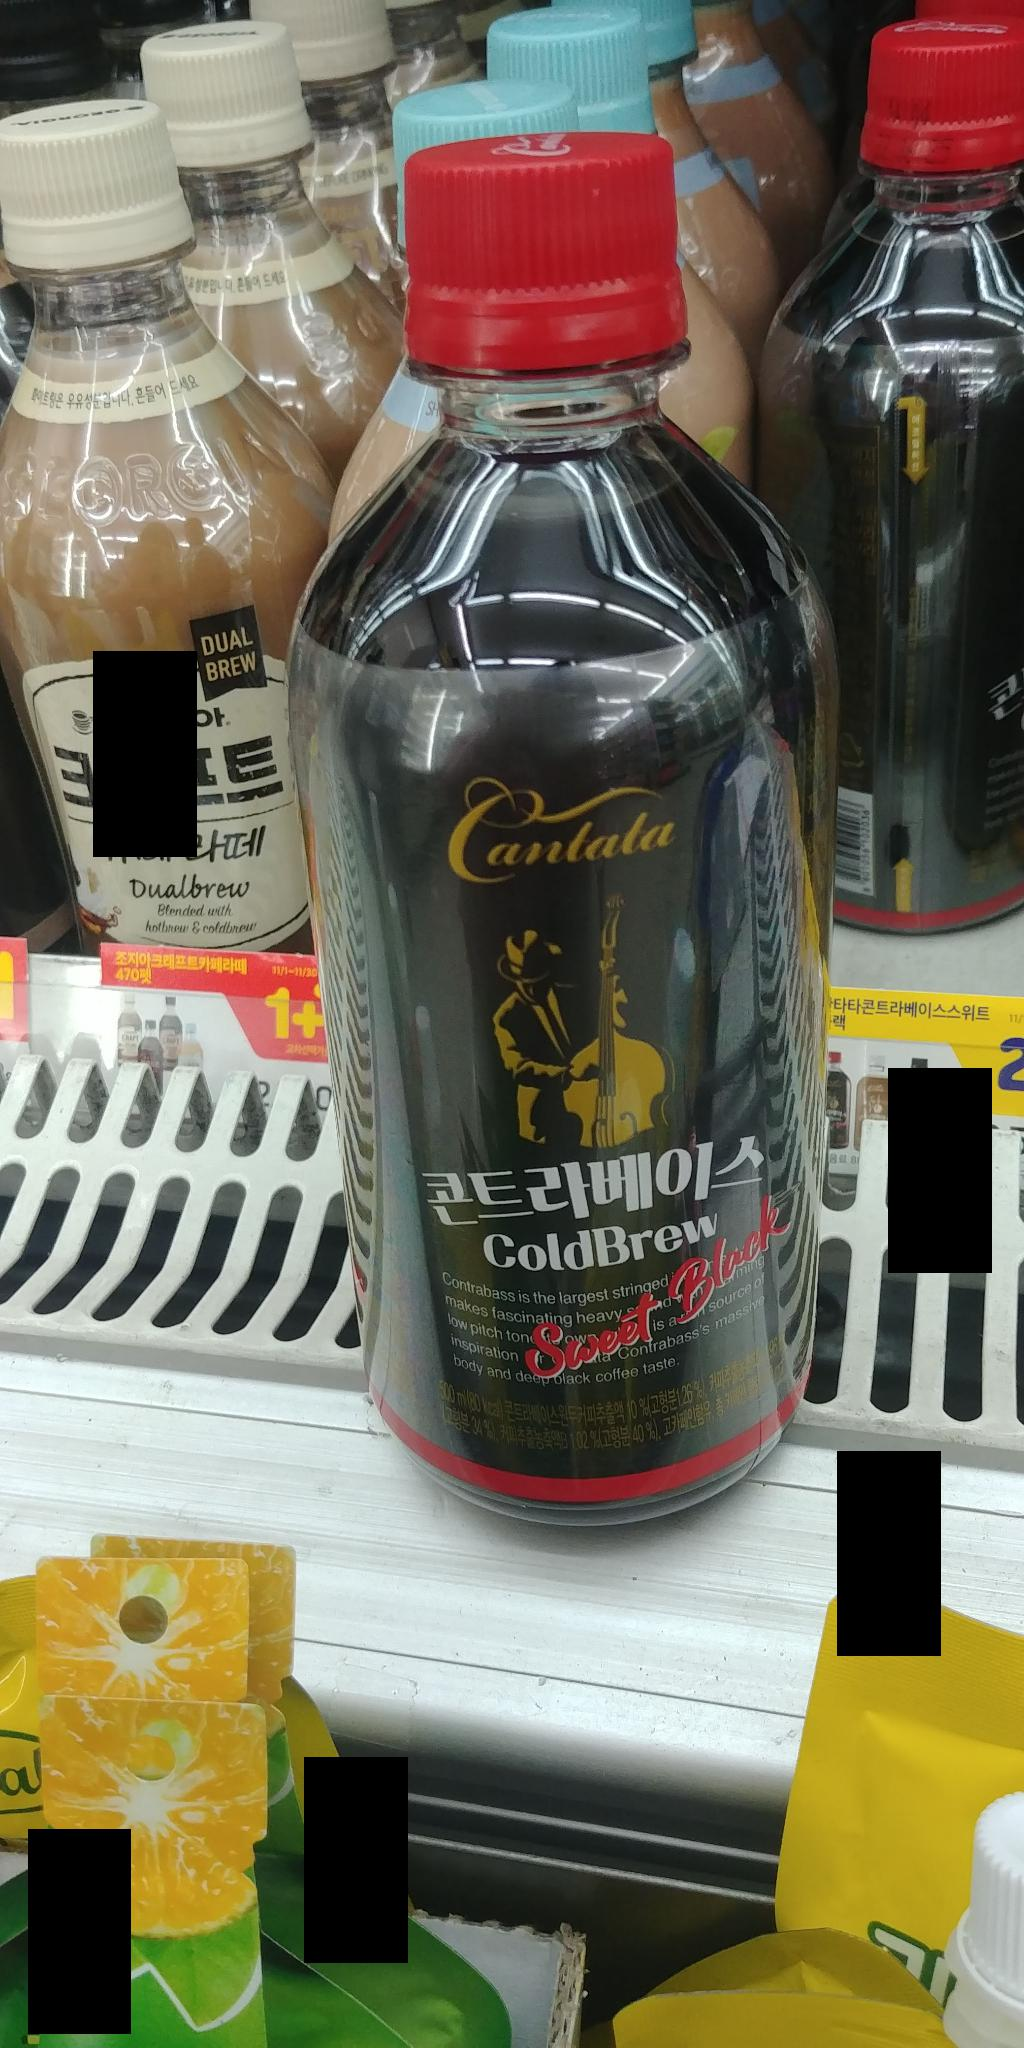contrabass_sweetblack: (238, 120, 858, 1536)
